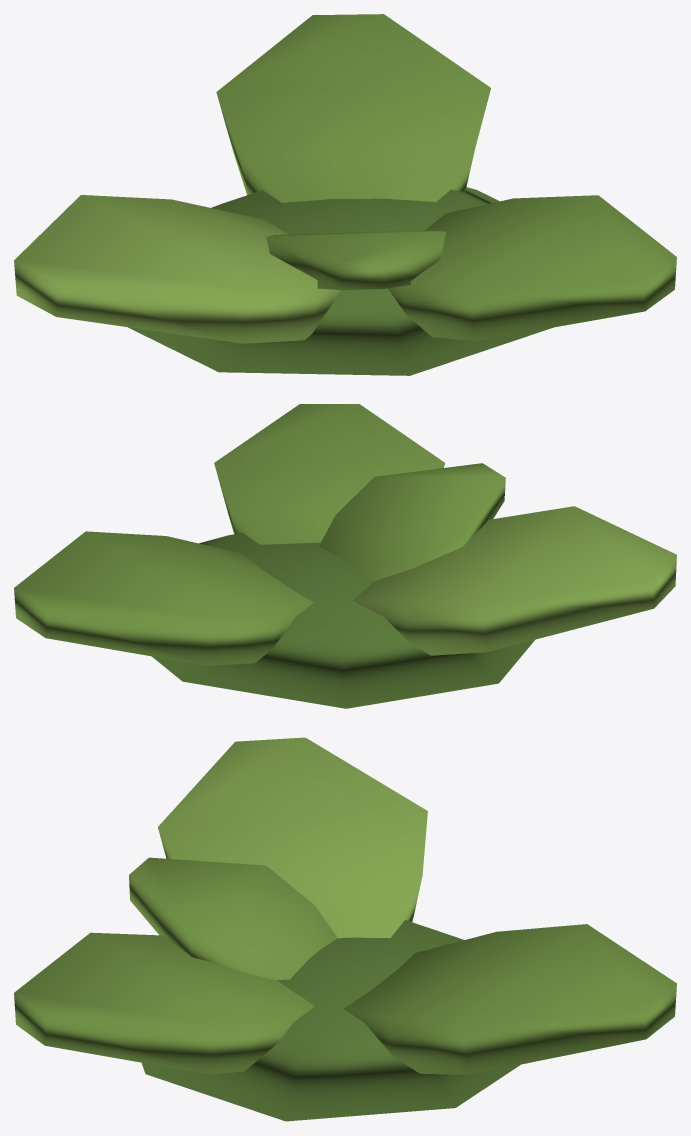
File: small_support_b.glb
3 renders of one model, top to bottom at view 1: azimuth 30°, elevation 25°; view 2: azimuth 150°, elevation 25°; view 3: azimuth 270°, elevation 25°, orthographic. The views are drawn at different scales.
Visible parts, largest first — view 1: small_support_b; view 2: small_support_b; view 3: small_support_b.
Boxes of the visible parts, x1,y1,x2,y2 form: small_support_b: (14, 14, 676, 375); small_support_b: (14, 404, 676, 708); small_support_b: (14, 737, 676, 1121).
Bounding box in the file's own units: 0.2381 × 0.0487 × 0.2474.
